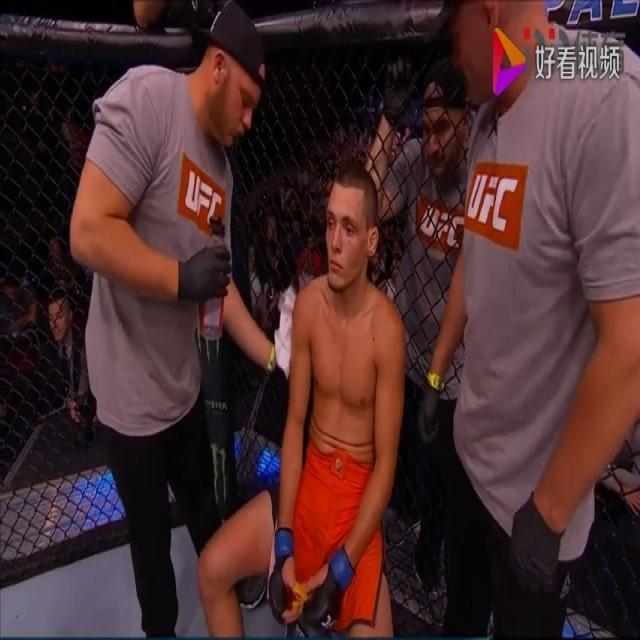non-fight: (415, 0, 640, 640), (68, 0, 282, 640), (197, 153, 406, 640)
